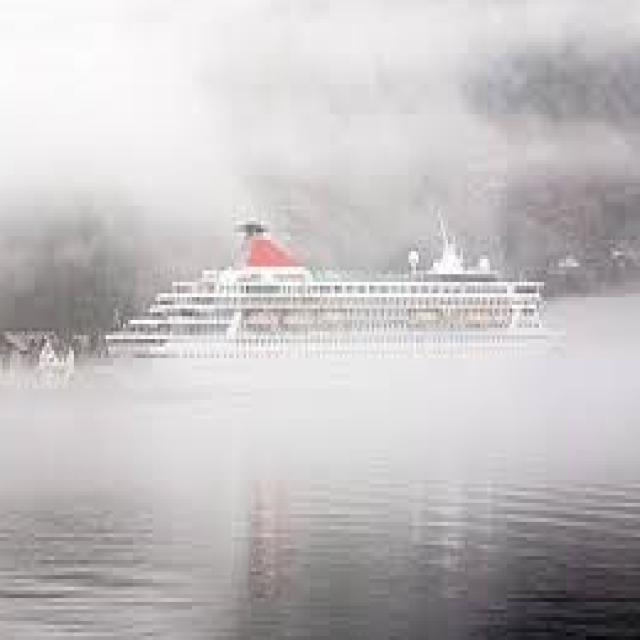passenger ship: (115, 211, 574, 390)
